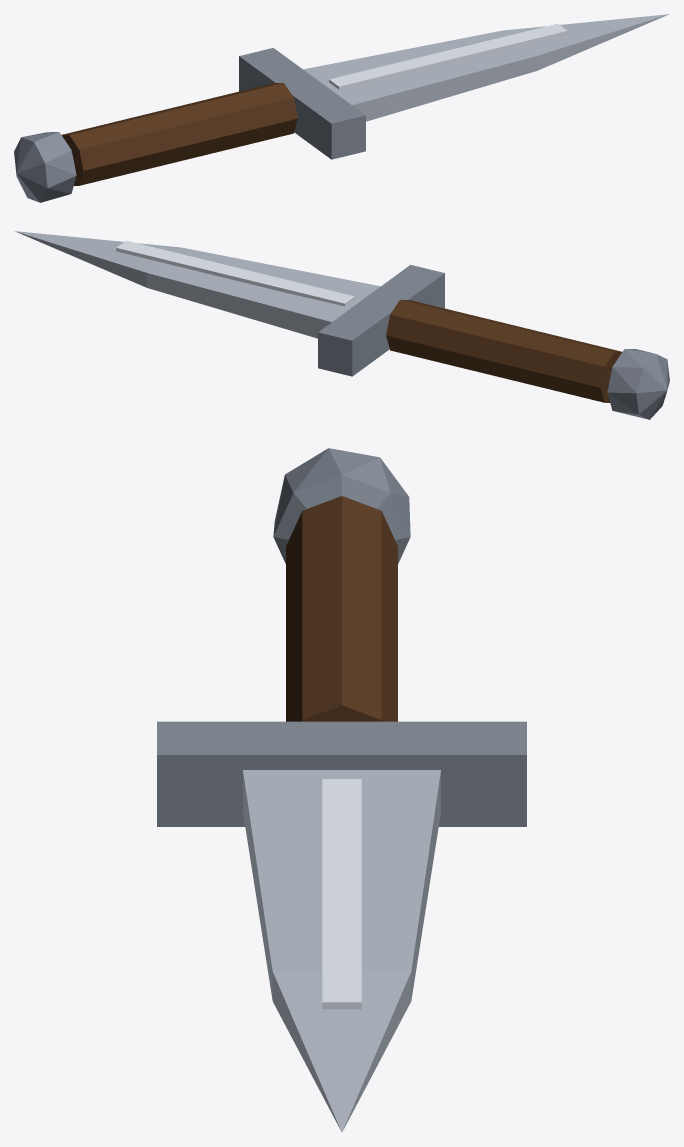
Rendered from drop_steel_dagger.glb.
The picture shows the model from 3 angles, top to bottom: view 1: azimuth 30°, elevation 25°; view 2: azimuth 150°, elevation 25°; view 3: azimuth 270°, elevation 25°; orthographic projection. The views are drawn at different scales.
Visible parts, largest first — view 1: drop_steel_dagger; view 2: drop_steel_dagger; view 3: drop_steel_dagger.
Boxes of the visible parts, box(x1,y1,x2,y2) form: drop_steel_dagger: box(14, 14, 669, 202); drop_steel_dagger: box(14, 231, 669, 419); drop_steel_dagger: box(157, 448, 526, 1132).
Bounding box in the file's own units: 0.3656 × 0.0333 × 0.0896.
